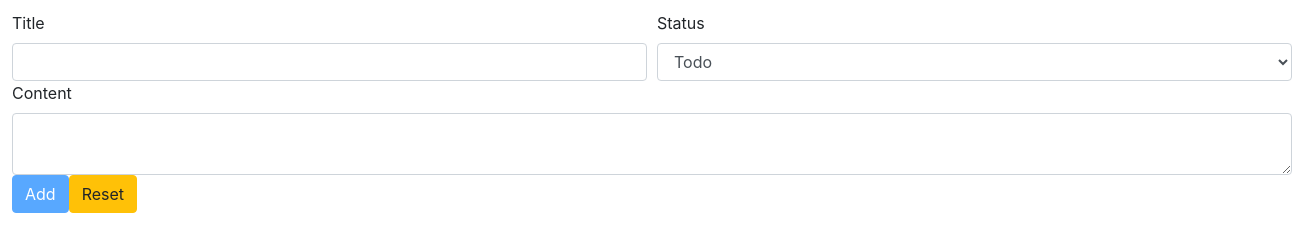
Test: <TaskCreator> › Reset › should reset form
This screenshot has width=1304, height=230.
Type "title" into the field with id "title" at point(330, 62), box [12,43,647,81]
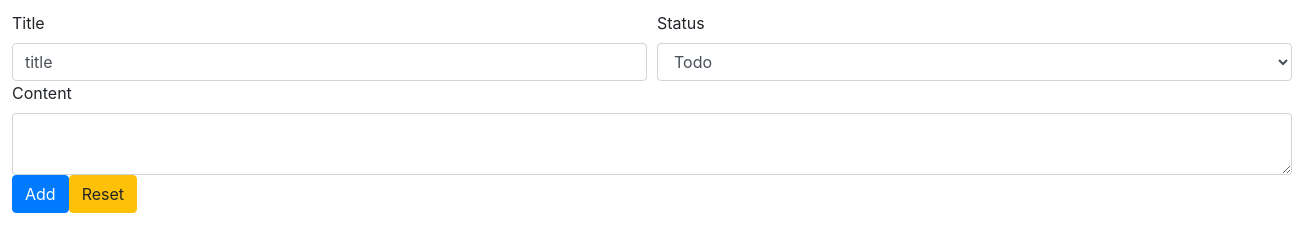
Type "content" into the text box labelled "Content" at point(652, 144), box [12,113,1292,175]
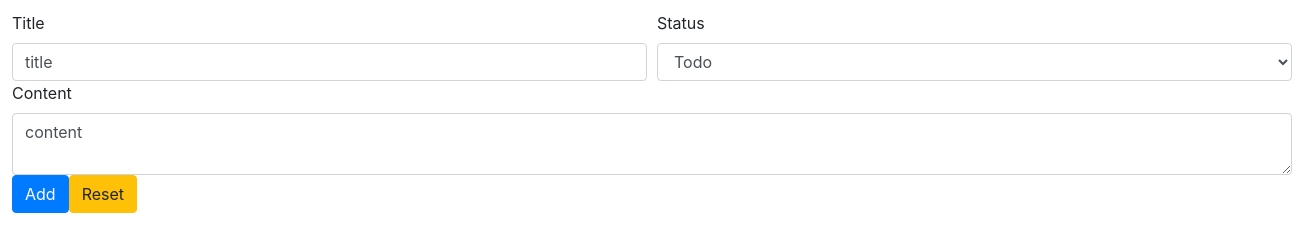
Select "In progress" in the dropdown with id "status" at point(974, 62), box [657,43,1292,81]
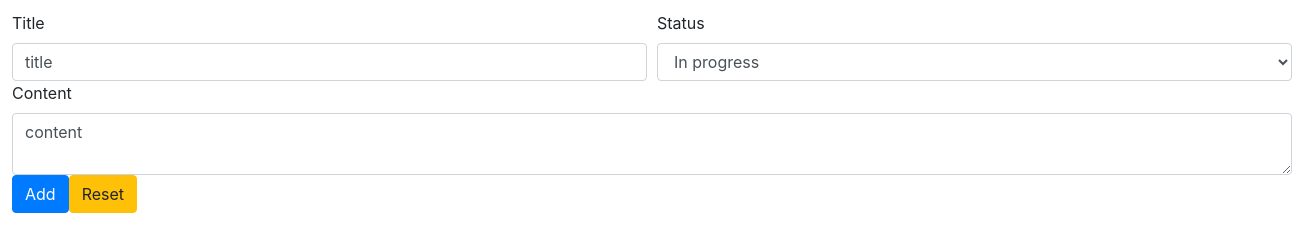
Click the button with test id "reset-task" at point(103, 194), box [69,175,137,213]
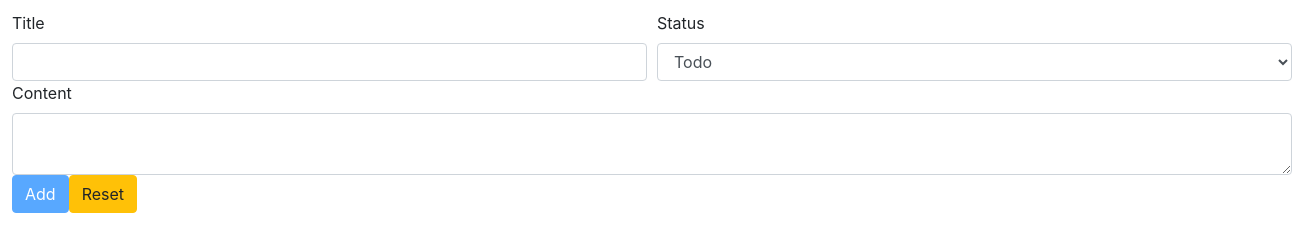
Expected: the field with id "title" is empty, [12,43,647,81]
Expected: the text box labelled "Content" is empty, [12,113,1292,175]
